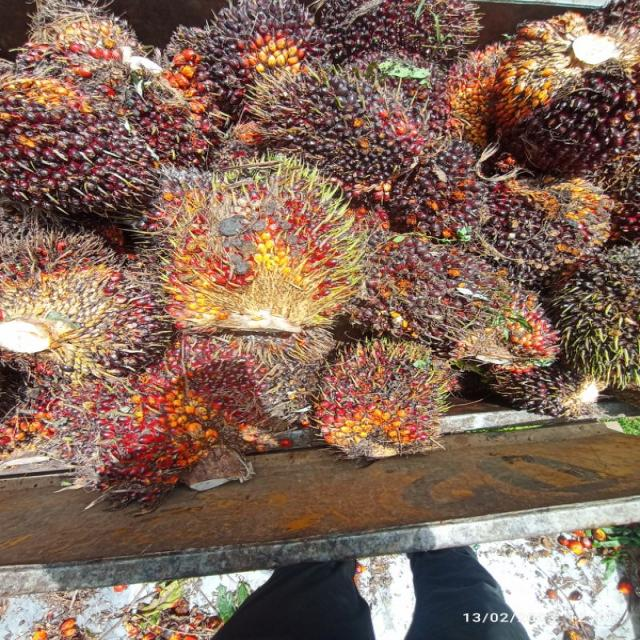fraksi 00: (0, 248, 163, 400), (194, 47, 358, 176), (156, 4, 288, 104)
fraksi 1: (0, 60, 172, 222)
fraksi 3: (36, 323, 296, 499), (150, 156, 362, 334)
